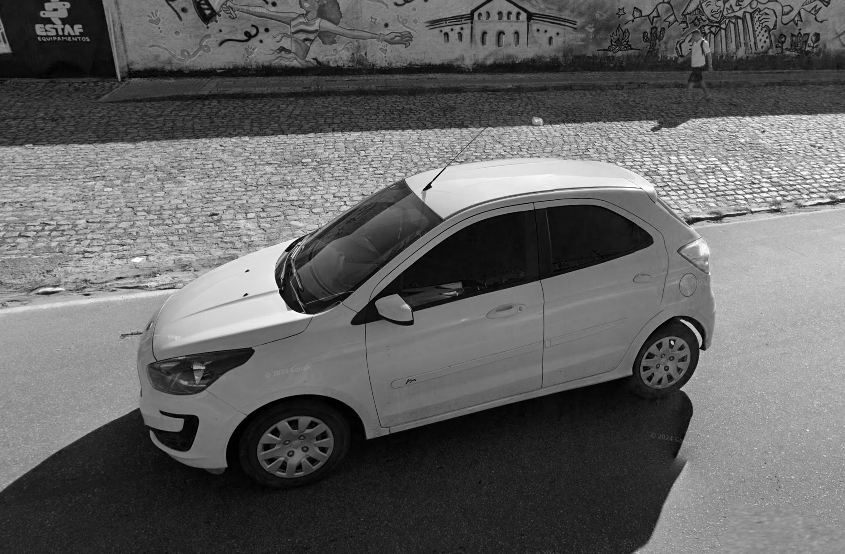car: (132, 120, 722, 491)
